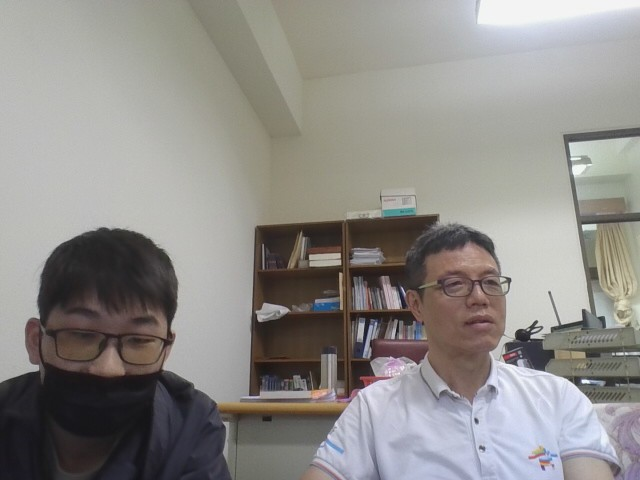No_Helmet: (29, 224, 180, 380), (398, 219, 514, 383)
person: (260, 202, 638, 480), (0, 212, 265, 480)
